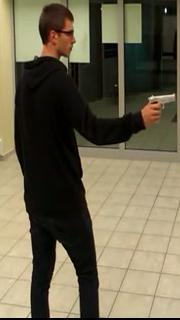pistol: (144, 93, 177, 122)
